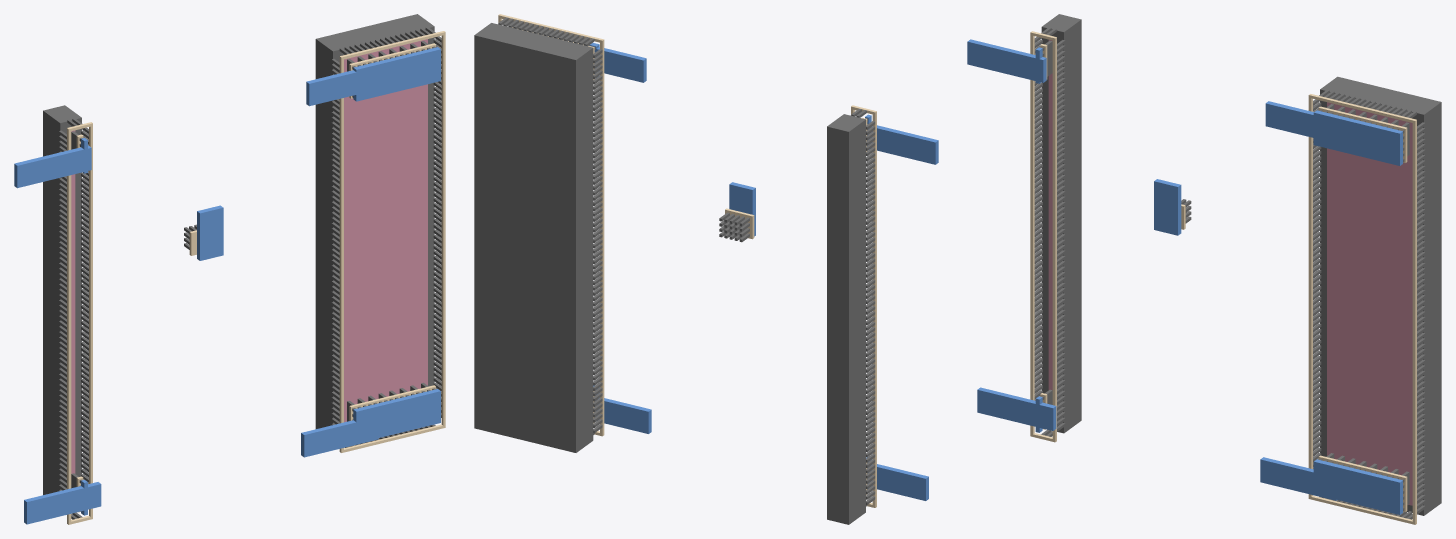
Rendered from res.gds.gltf.
3 views of the same model, side by side, from view 1: azimuth 30°, elevation 25°; view 2: azimuth 150°, elevation 25°; view 3: azimuth 330°, elevation 25° (orthographic). The views are drawn at different scales.
Visible parts, largest first — view 1: sky130_fd_pr__res_high_po_5p73_WUGB7G_poly, sky130_fd_pr__res_high_po_5p73_WUGB7G_substrate, res_met1, sky130_fd_pr__res_high_po_0p35_QPS5FG_substrate, sky130_fd_pr__res_high_po_5p73_WUGB7G_licon, sky130_fd_pr__res_high_po_5p73_WUGB7G_met1, sky130_fd_pr__res_high_po_5p73_WUGB7G_li1, sky130_fd_pr__res_high_po_0p35_QPS5FG_licon, sky130_fd_pr__res_high_po_0p35_QPS5FG_li1, sky130_fd_pr__res_high_po_0p35_QPS5FG_poly; view 2: sky130_fd_pr__res_high_po_5p73_WUGB7G_substrate, sky130_fd_pr__res_high_po_0p35_QPS5FG_substrate, res_met1, sky130_fd_pr__res_high_po_5p73_WUGB7G_licon, sky130_fd_pr__res_high_po_0p35_QPS5FG_licon, sky130_fd_pr__res_high_po_5p73_WUGB7G_li1, sky130_fd_pr__res_high_po_0p35_QPS5FG_li1, res_licon; view 3: sky130_fd_pr__res_high_po_5p73_WUGB7G_poly, sky130_fd_pr__res_high_po_5p73_WUGB7G_substrate, sky130_fd_pr__res_high_po_0p35_QPS5FG_substrate, res_met1, sky130_fd_pr__res_high_po_5p73_WUGB7G_licon, sky130_fd_pr__res_high_po_0p35_QPS5FG_licon, sky130_fd_pr__res_high_po_5p73_WUGB7G_met1, sky130_fd_pr__res_high_po_5p73_WUGB7G_li1, sky130_fd_pr__res_high_po_0p35_QPS5FG_li1, sky130_fd_pr__res_high_po_0p35_QPS5FG_poly.
Boxes of the visible parts, x1,y1,x2,y2 form: sky130_fd_pr__res_high_po_5p73_WUGB7G_poly: (344,39,427,422); sky130_fd_pr__res_high_po_5p73_WUGB7G_substrate: (315,14,434,428); res_met1: (14,66,383,524); sky130_fd_pr__res_high_po_0p35_QPS5FG_substrate: (43,105,81,494); sky130_fd_pr__res_high_po_5p73_WUGB7G_licon: (331,27,441,447); sky130_fd_pr__res_high_po_5p73_WUGB7G_met1: (353,47,440,442); sky130_fd_pr__res_high_po_5p73_WUGB7G_li1: (339,31,445,452); sky130_fd_pr__res_high_po_0p35_QPS5FG_licon: (59,118,88,519); sky130_fd_pr__res_high_po_0p35_QPS5FG_li1: (67,122,92,524); sky130_fd_pr__res_high_po_0p35_QPS5FG_poly: (71,130,75,473); sky130_fd_pr__res_high_po_5p73_WUGB7G_substrate: (474,23,593,452); sky130_fd_pr__res_high_po_0p35_QPS5FG_substrate: (827,114,865,524); res_met1: (596,47,938,500); sky130_fd_pr__res_high_po_5p73_WUGB7G_licon: (498,17,602,434); sky130_fd_pr__res_high_po_0p35_QPS5FG_licon: (851,108,875,506); sky130_fd_pr__res_high_po_5p73_WUGB7G_li1: (498,14,604,436); sky130_fd_pr__res_high_po_0p35_QPS5FG_li1: (851,105,876,507); res_licon: (719,212,749,242); sky130_fd_pr__res_high_po_5p73_WUGB7G_poly: (1327,102,1412,505); sky130_fd_pr__res_high_po_5p73_WUGB7G_substrate: (1320,76,1441,515); sky130_fd_pr__res_high_po_0p35_QPS5FG_substrate: (1041,14,1081,433); res_met1: (967,39,1341,500); sky130_fd_pr__res_high_po_5p73_WUGB7G_licon: (1313,90,1425,519); sky130_fd_pr__res_high_po_0p35_QPS5FG_licon: (1034,27,1065,436); sky130_fd_pr__res_high_po_5p73_WUGB7G_met1: (1313,110,1402,514); sky130_fd_pr__res_high_po_5p73_WUGB7G_li1: (1308,94,1416,524); sky130_fd_pr__res_high_po_0p35_QPS5FG_li1: (1030,31,1056,442); sky130_fd_pr__res_high_po_0p35_QPS5FG_poly: (1048,39,1052,390).
Bounding box in the file's own units: 29.2 × 25.79 × 3.74.
